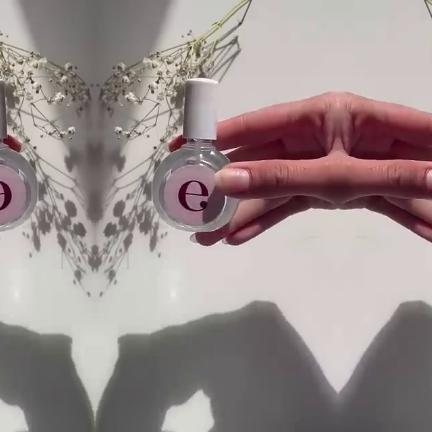Nail: (212, 168, 248, 194), (426, 169, 432, 192)
